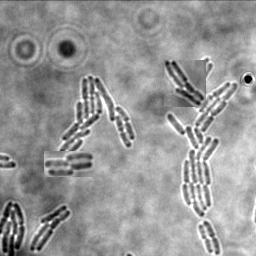Dividing: (204, 219, 222, 255), (199, 223, 215, 253)
Microcolony: (167, 57, 238, 216), (59, 75, 136, 169), (30, 204, 72, 251), (164, 60, 206, 107), (1, 200, 26, 255), (44, 151, 95, 177)
